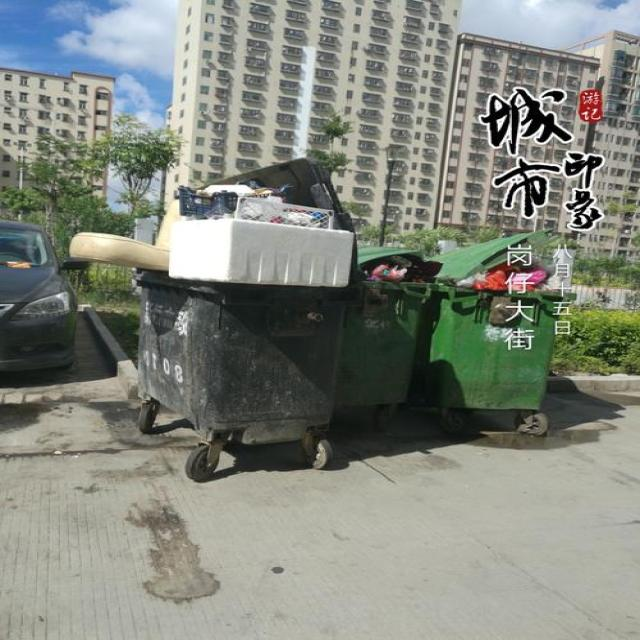overflow: (68, 180, 356, 444), (414, 226, 578, 409), (339, 247, 442, 405)
